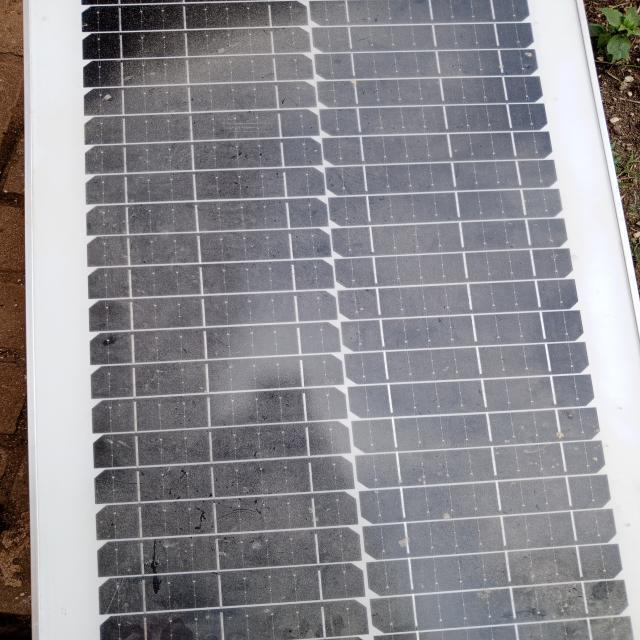Surface Contaminant: (56, 10, 548, 639)
